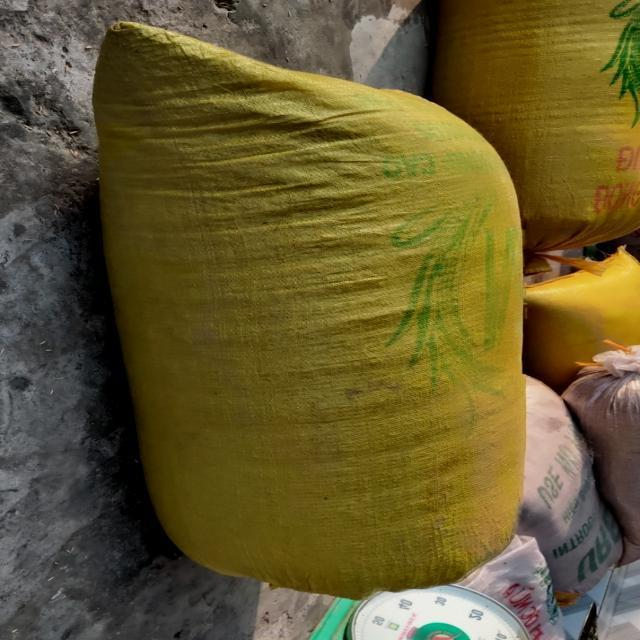gunny_bag: (93, 21, 526, 599)
